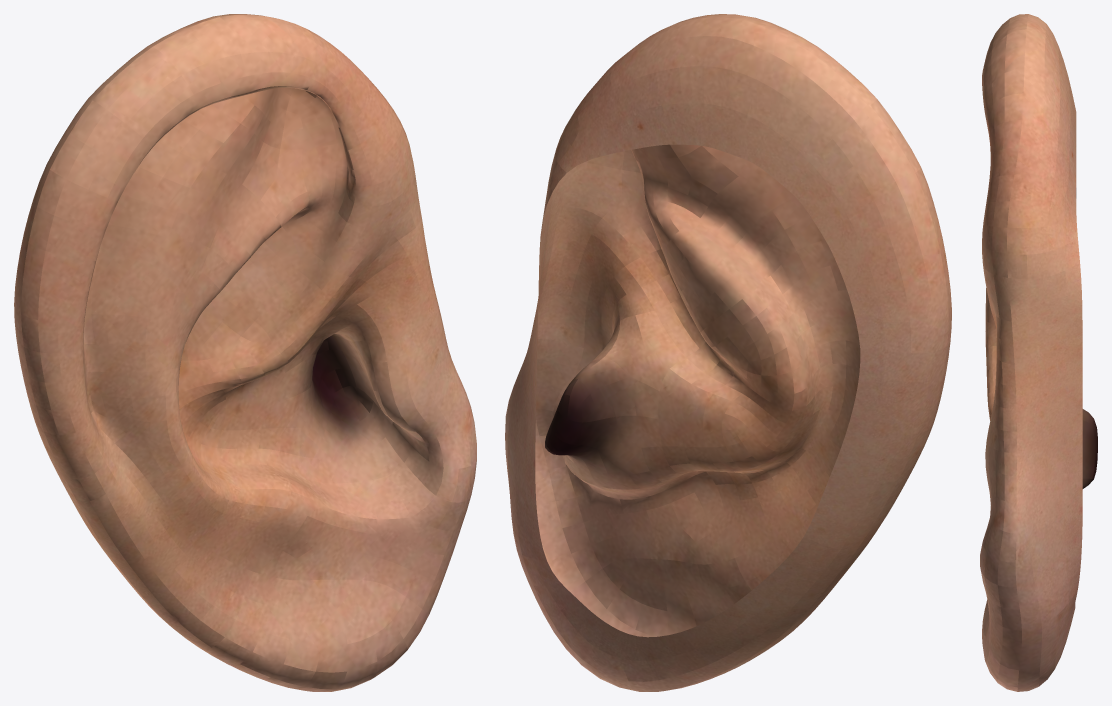
The model's file is ears.glb.
The picture shows the model from 3 angles, left to right: view 1: azimuth 30°, elevation 25°; view 2: azimuth 150°, elevation 25°; view 3: azimuth 270°, elevation 25°; orthographic projection. The views are drawn at different scales.
Parts seen in each view (by area): view 1: udambu; view 2: udambu; view 3: udambu.
Boxes of the visible parts, x1=… form: udambu: x1=14, y1=14, x2=476, y2=691; udambu: x1=505, y1=14, x2=951, y2=691; udambu: x1=980, y1=14, x2=1097, y2=691.
Bounding box in the file's own units: 0.4037 × 0.6 × 0.1059.
Materials: 1 (1 with a texture image).
